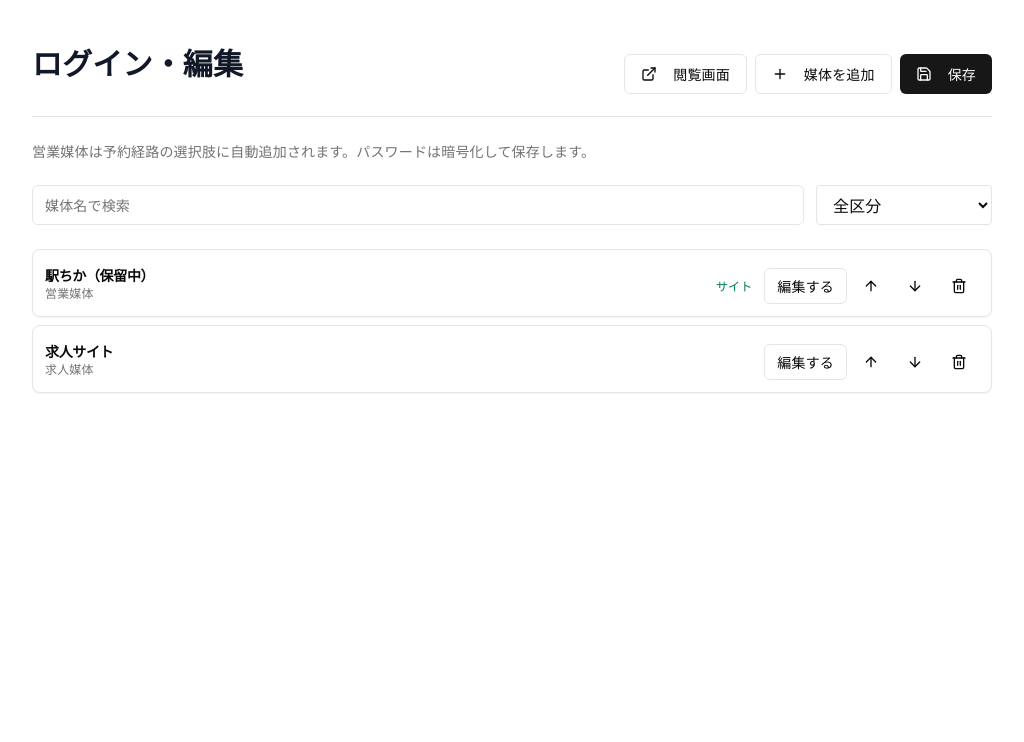
Test: shows media as a searchable list and opens credentials only for the selected edit row
Expected: the text "駅ちか（保留中）" is shown, 45,265 -> 154,285
Expected: the field labelled "ログインID" is not shown
Click the button with aria-label "駅ちかを編集する". click: (806, 286)
box: 764,268 -> 847,304
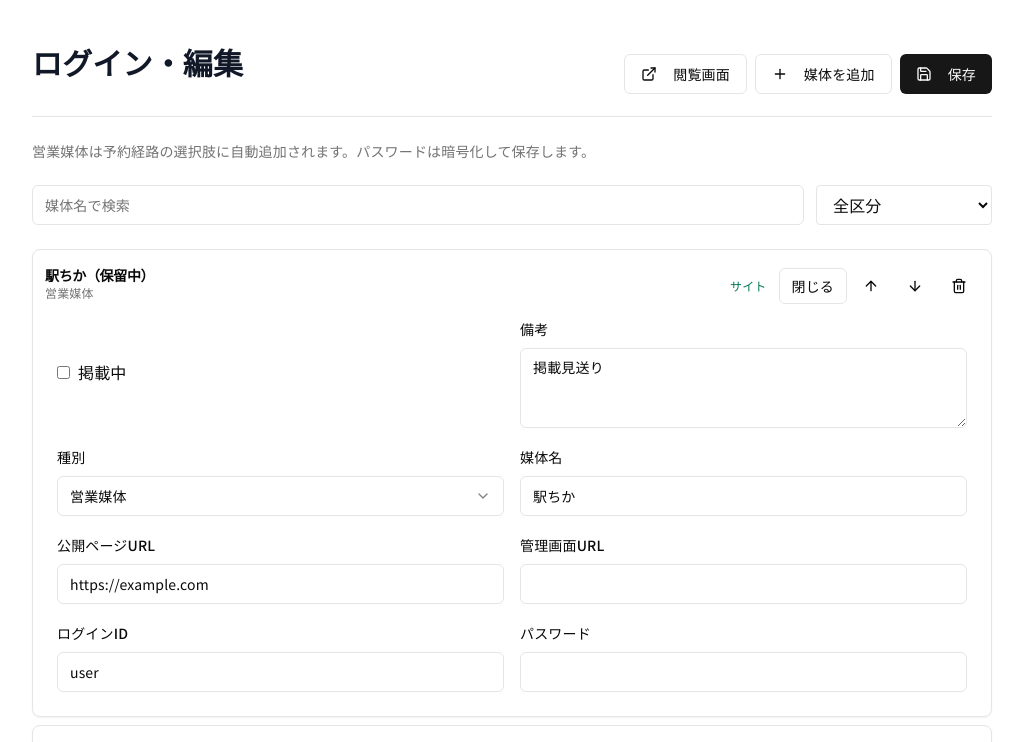
Expected: the field labelled "ログインID" holds "user", 57,652 -> 504,692
Expected: the checkbox labelled "掲載中" is not checked, 57,366 -> 70,378
Expected: the text box labelled "備考" holds "掲載見送り", 520,348 -> 967,428
Type "求人" into the field named "媒体を検索". click: (418, 205)
box: 32,185 -> 804,225
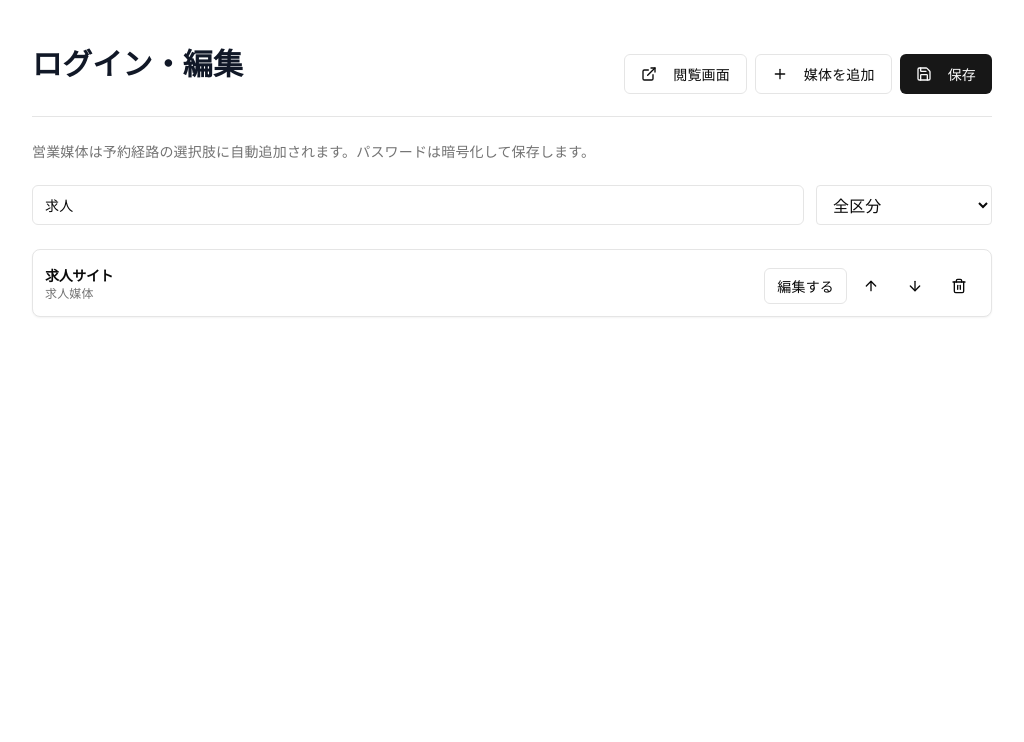
Expected: the text "求人サイト" is shown, 45,265 -> 113,285
Expected: the text "駅ちか（保留中）" is gone
